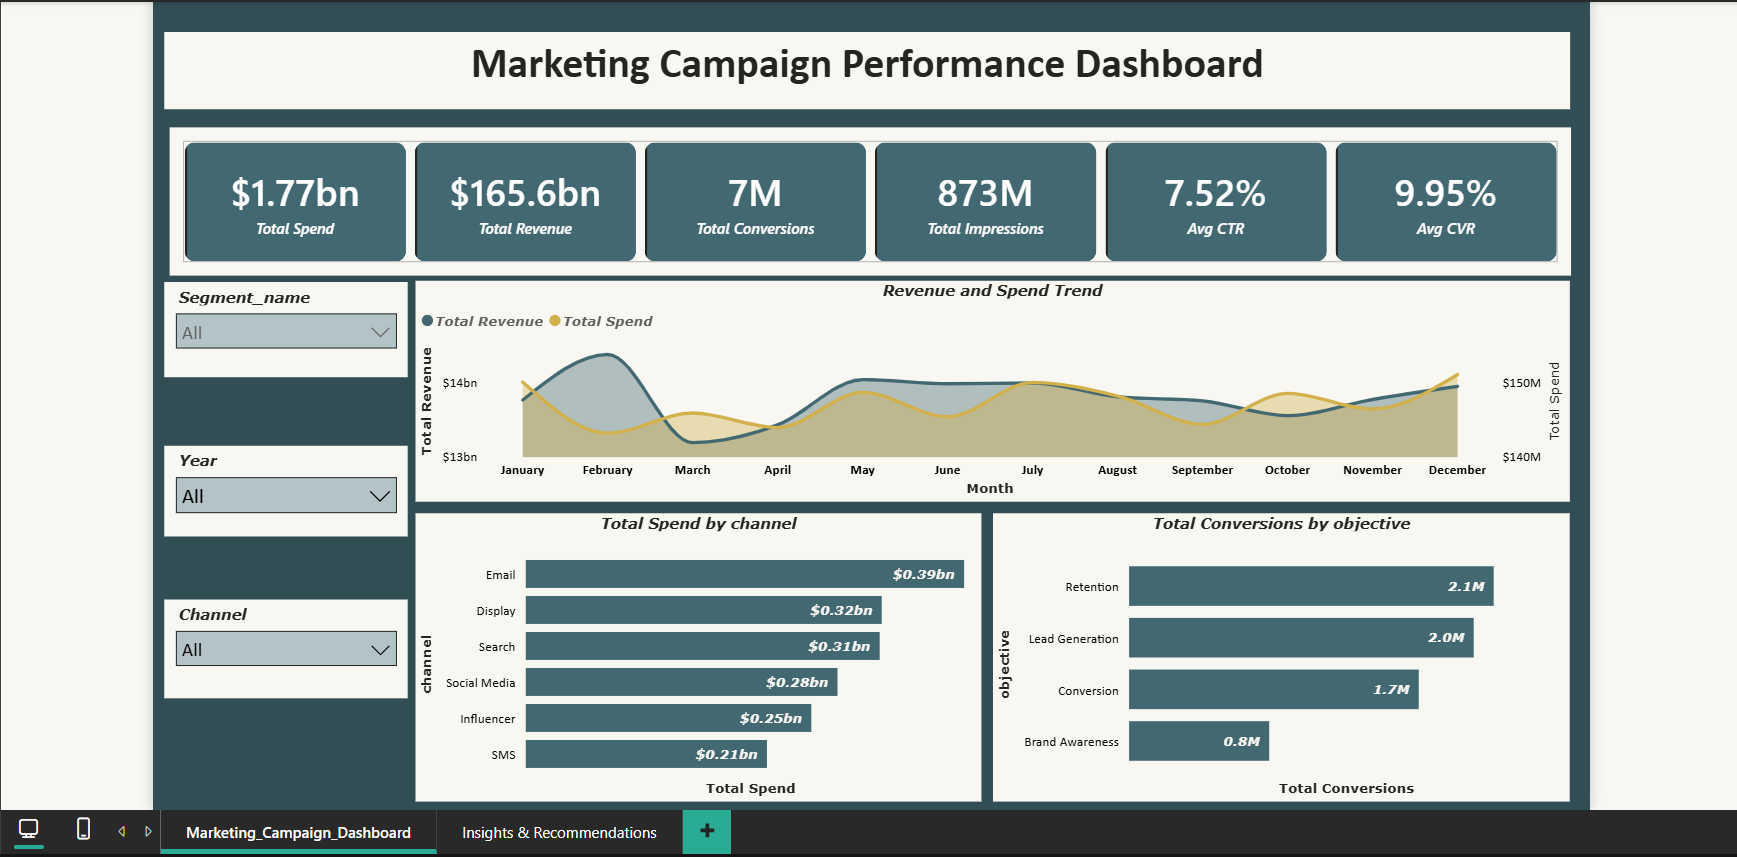

The dashboard page shown, as its layout file describes it:
{"tool":"powerbi","page":{"name":"Marketing_Campaign_Dashboard","canvas":[1280,720],"ordinal":0},"visuals":[{"type":"textbox","box":[9.7,26.5,1252.3,68.8],"z":0},{"type":"cardVisual","fields":{"Data":["fact_campaign.Total Spend","fact_campaign.Total Revenue","fact_campaign.Total Conversions","fact_campaign.Total Impressions","fact_campaign.Avg CTR","fact_campaign.Avg CVR"]},"box":[9.7,107.4,1258.3,142.4],"z":2000},{"type":"clusteredBarChart","fields":{"Category":["dim_campaign_export.channel"],"Y":["fact_campaign.Total Spend"]},"box":[234,454.8,504.3,257],"z":9000},{"type":"clusteredBarChart","fields":{"Category":["dim_campaign_export.objective"],"Y":["fact_campaign.Total Conversions"]},"box":[748,454.8,513.9,257],"z":10000},{"type":"lineChart","title":"Revenue and Spend Trend","fields":{"Category":["fact_campaign.date.Variation.Date Hierarchy.Month"],"Y":["fact_campaign.Total Revenue"],"Y2":["fact_campaign.Total Spend"]},"box":[234,248.5,1027.9,196.6],"z":11000},{"type":"slicer","fields":{"Values":["dim_campaign_export.channel"]},"box":[9.7,532,217.2,88.1],"z":12000},{"type":"slicer","fields":{"Values":["dim_segment_export.segment_name"]},"box":[9.7,249.7,217.2,84.5],"z":13000},{"type":"slicer","fields":{"Values":["fact_campaign.Year"]},"box":[9.7,395.7,217.2,80.8],"z":14000}]}

Visuals, with their boxes in screenshot pixels (x1, y1, x2, y2):
textbox: <box>156,25,1570,103</box>
cardVisual - fact_campaign.Total Spend x fact_campaign.Total Revenue: <box>156,117,1577,278</box>
clusteredBarChart - dim_campaign_export.channel x fact_campaign.Total Spend: <box>409,509,979,799</box>
clusteredBarChart - dim_campaign_export.objective x fact_campaign.Total Conversions: <box>990,509,1570,799</box>
"Revenue and Spend Trend" lineChart: <box>409,276,1570,498</box>
slicer - dim_campaign_export.channel: <box>156,596,401,696</box>
slicer - dim_segment_export.segment_name: <box>156,278,401,373</box>
slicer - fact_campaign.Year: <box>156,442,401,534</box>
